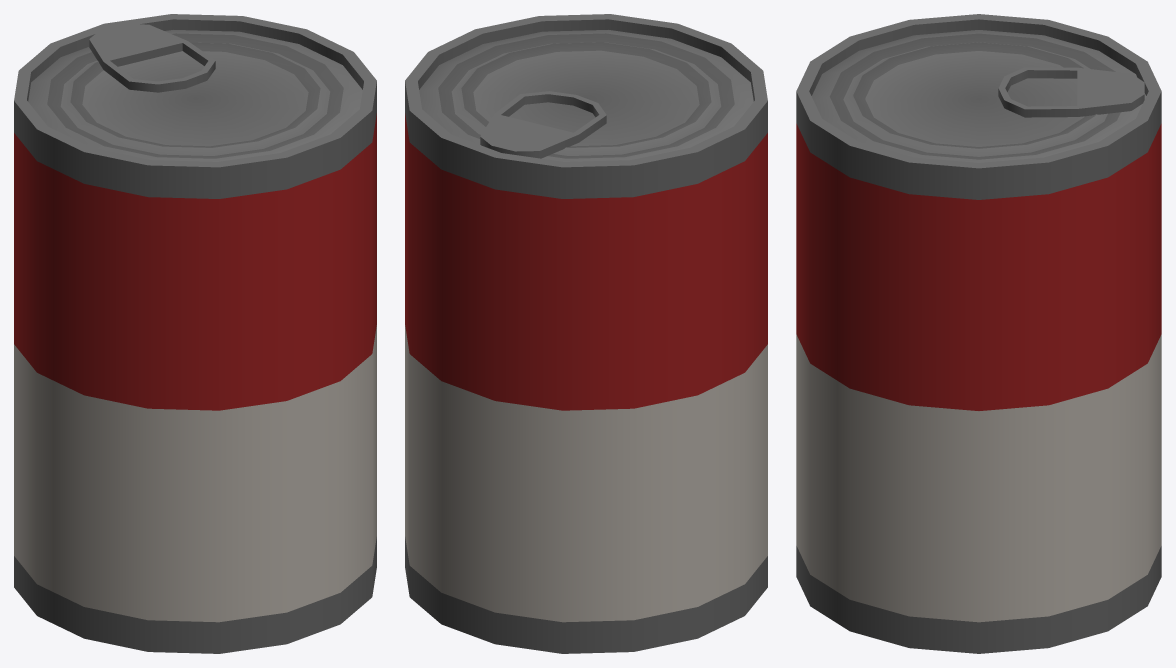
File: consumables-cannedfood-canofsoup_v1.glb
3 views of the same model, side by side, from view 1: azimuth 30°, elevation 25°; view 2: azimuth 150°, elevation 25°; view 3: azimuth 270°, elevation 25° (orthographic).
Visible parts, largest first — view 1: CanOfSoup_base, CanOfSoup_refl; view 2: CanOfSoup_base, CanOfSoup_refl; view 3: CanOfSoup_base, CanOfSoup_refl.
Part boxes in pixels (left/top/right/bottom): CanOfSoup_base: left=14, top=113, right=376, bottom=622; CanOfSoup_refl: left=14, top=14, right=376, bottom=653; CanOfSoup_base: left=405, top=113, right=767, bottom=622; CanOfSoup_refl: left=405, top=14, right=767, bottom=653; CanOfSoup_base: left=796, top=123, right=1161, bottom=622; CanOfSoup_refl: left=796, top=14, right=1161, bottom=653.
Size of the model in its own units: 0.1231 by 0.1816 by 0.1231.
